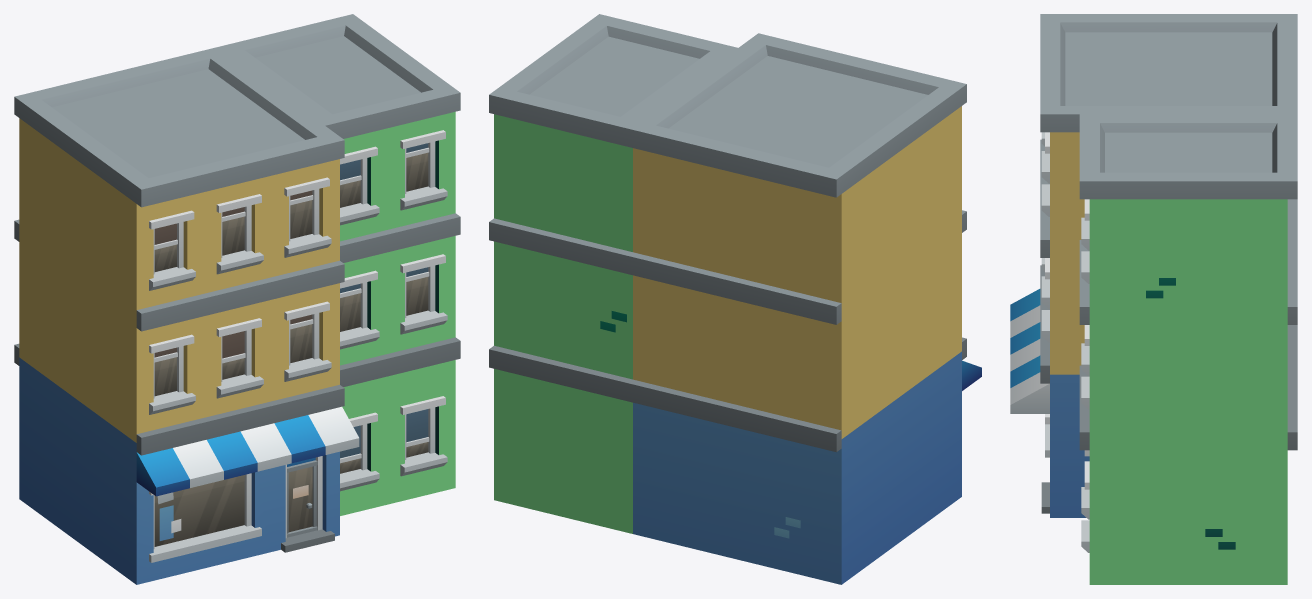
File: nha11.glb
3 renders of one model, left to right at view 1: azimuth 30°, elevation 25°; view 2: azimuth 150°, elevation 25°; view 3: azimuth 270°, elevation 25°, orthographic. The views are drawn at different scales.
Visible parts, largest first — view 1: building_G_withoutBase_Cube.945; view 2: building_G_withoutBase_Cube.945; view 3: building_G_withoutBase_Cube.945.
Boxes of the visible parts, x1,y1,x2,y2 form: building_G_withoutBase_Cube.945: (14, 14, 460, 584); building_G_withoutBase_Cube.945: (489, 14, 981, 584); building_G_withoutBase_Cube.945: (1010, 14, 1297, 584).
Size of the model in its own units: 2.01 by 2.25 by 1.45.
3 materials, 1 textured.
